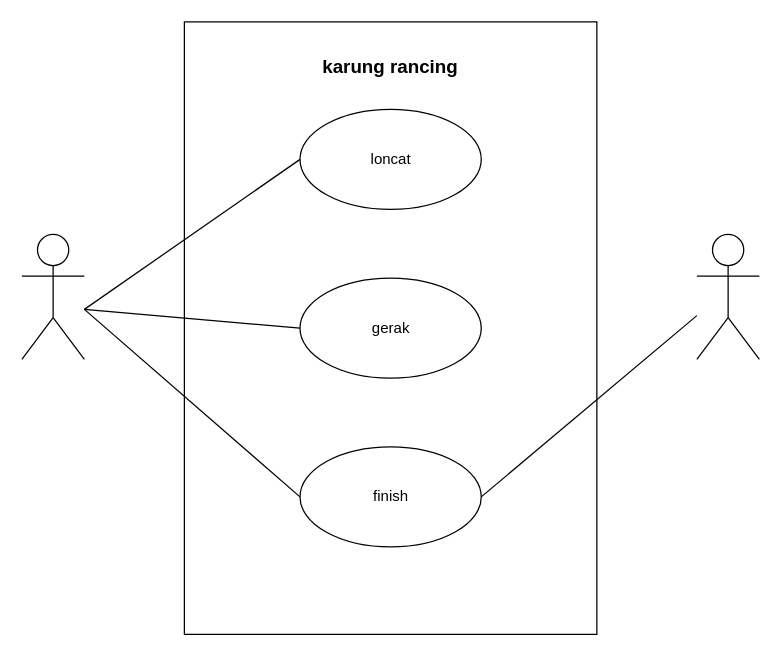
The diagram is 784 pixels wide and 656 high, and some of its shapes have lost their labels. The shapes that lost their labels are listed below. From the top down, each one's centre as x and y in pixels, then its label:
(x=52, y=296): pemain
(x=727, y=296): panitia/juri
